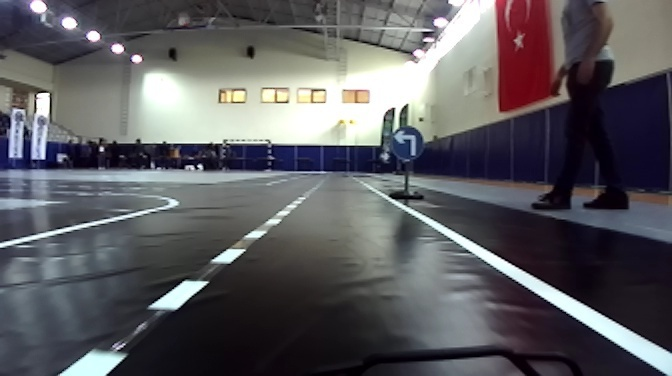sola_donus: (388, 127, 424, 160)
